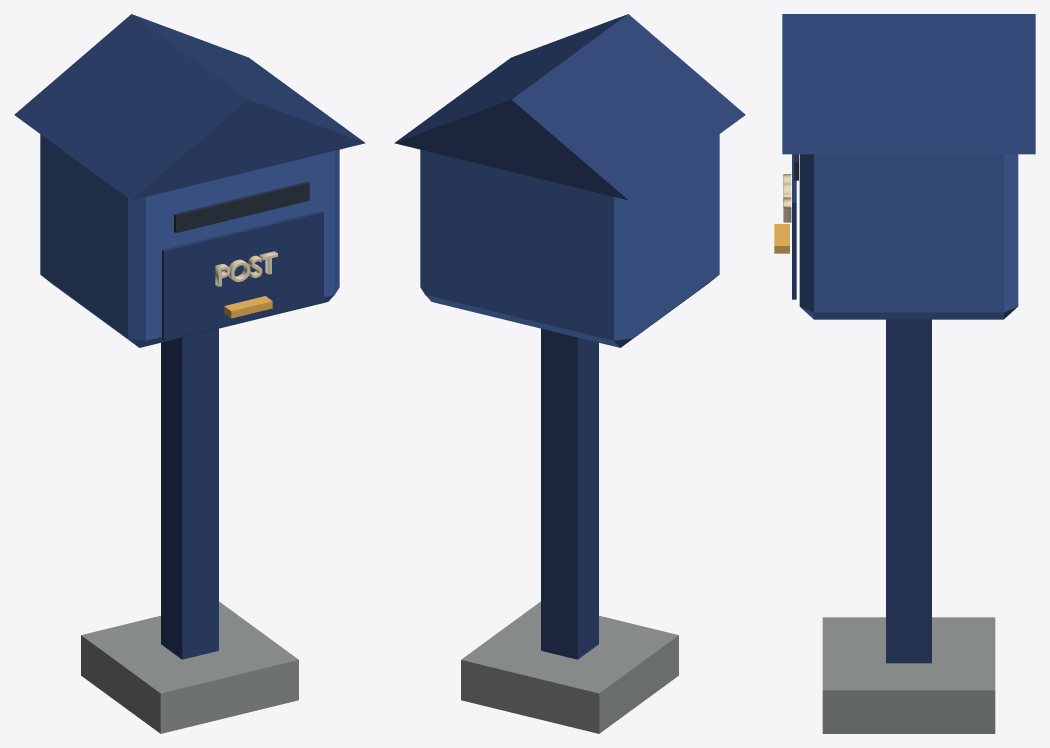
The model's file is prop_mailbox.glb.
3 views of the same model, side by side, from view 1: azimuth 30°, elevation 25°; view 2: azimuth 150°, elevation 25°; view 3: azimuth 270°, elevation 25° (orthographic). The views are drawn at different scales.
Parts seen in each view (by area): view 1: prop_mailbox__Mailbox pitched lid, prop_mailbox__Mailbox body, prop_mailbox__Mailbox post, prop_mailbox__Mailbox foot, prop_mailbox__Mailbox collection flap, prop_mailbox__Mailbox letter slot, prop_mailbox__Mailbox POST letters, prop_mailbox__Mailbox handle; view 2: prop_mailbox__Mailbox body, prop_mailbox__Mailbox pitched lid, prop_mailbox__Mailbox post, prop_mailbox__Mailbox foot; view 3: prop_mailbox__Mailbox body, prop_mailbox__Mailbox pitched lid, prop_mailbox__Mailbox foot, prop_mailbox__Mailbox post, prop_mailbox__Mailbox collection flap, prop_mailbox__Mailbox handle, prop_mailbox__Mailbox POST letters.
Boxes of the visible parts, box(x1,y1,x2,y2) form: prop_mailbox__Mailbox pitched lid: box(14, 14, 365, 200); prop_mailbox__Mailbox body: box(40, 134, 339, 347); prop_mailbox__Mailbox post: box(161, 328, 218, 659); prop_mailbox__Mailbox foot: box(81, 601, 298, 733); prop_mailbox__Mailbox collection flap: box(162, 211, 323, 340); prop_mailbox__Mailbox letter slot: box(174, 182, 309, 232); prop_mailbox__Mailbox POST letters: box(215, 251, 277, 286); prop_mailbox__Mailbox handle: box(224, 296, 272, 318); prop_mailbox__Mailbox body: box(420, 134, 719, 347); prop_mailbox__Mailbox pitched lid: box(394, 14, 745, 200); prop_mailbox__Mailbox post: box(541, 328, 598, 659); prop_mailbox__Mailbox foot: box(461, 601, 678, 733); prop_mailbox__Mailbox body: box(799, 154, 1018, 319); prop_mailbox__Mailbox pitched lid: box(782, 14, 1035, 154); prop_mailbox__Mailbox foot: box(822, 617, 995, 733); prop_mailbox__Mailbox post: box(886, 319, 931, 663); prop_mailbox__Mailbox collection flap: box(792, 154, 796, 299); prop_mailbox__Mailbox handle: box(774, 224, 789, 253); prop_mailbox__Mailbox POST letters: box(783, 174, 791, 222).
Bounding box in the file's own units: 0.51 × 1.31 × 0.4535.
